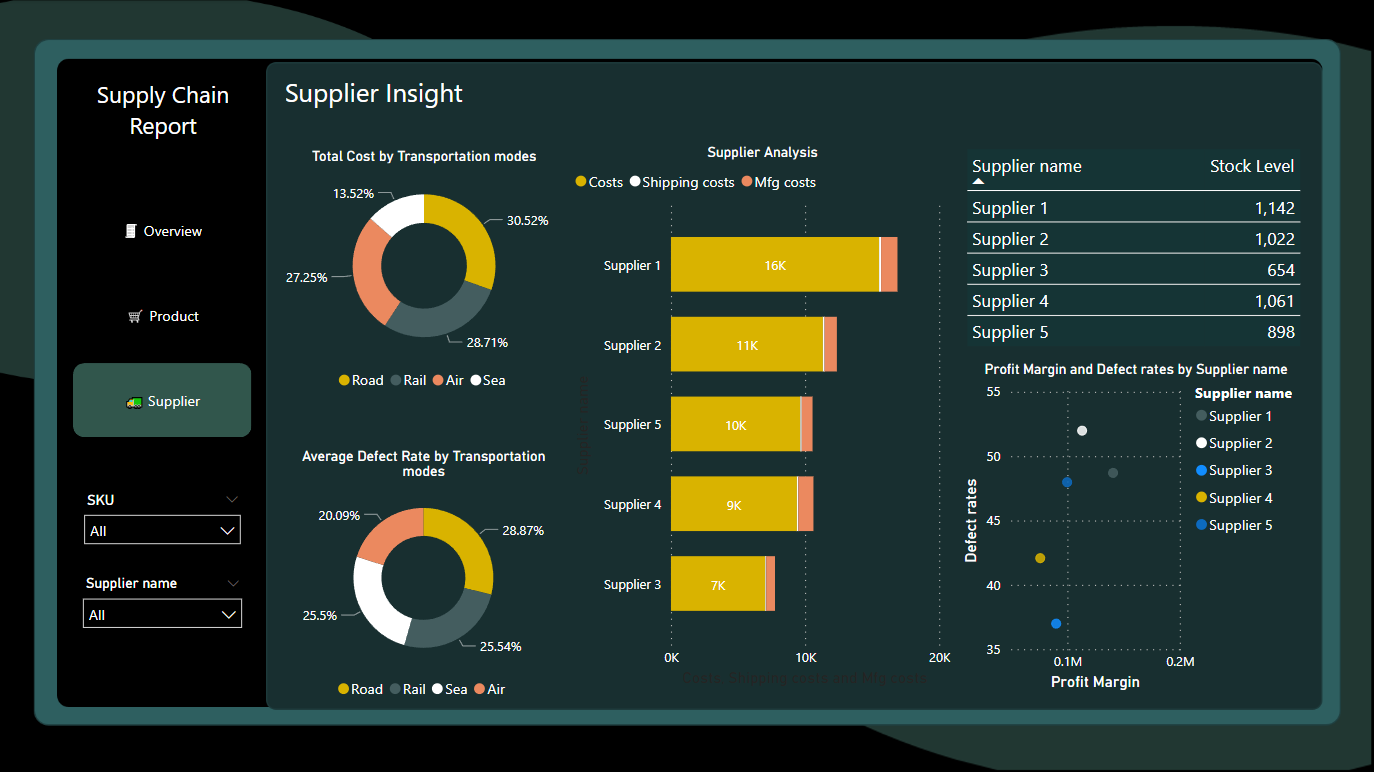

The dashboard page shown, as its layout file describes it:
{"tool":"powerbi","page":{"name":"🚛  Supplier","canvas":[1280,720],"ordinal":2},"visuals":[{"type":"donutChart","fields":{"Y":["_Measures.Total Cost"],"Category":["supply_chain_data.Transportation modes"]},"box":[261.6,138.3,269.7,234.8],"z":0},{"type":"donutChart","fields":{"Y":["_Measures.Average Defect Rate"],"Category":["supply_chain_data.Transportation modes"]},"box":[256.9,417.4,277.9,243],"z":1000},{"type":"barChart","title":"Supplier Analysis","fields":{"Category":["supply_chain_data.Supplier name"],"Y":["Sum(supply_chain_data.Costs)","Sum(supply_chain_data.Shipping costs)","Sum(supply_chain_data.Mfg costs)"]},"box":[531.3,134.9,359.2,509.2],"z":2000},{"type":"tableEx","fields":{"Values":["supply_chain_data.Supplier name","_Measures.Stock Level"]},"box":[895.2,134.9,324.4,194.2],"z":3000},{"type":"scatterChart","fields":{"Series":["supply_chain_data.Supplier name"],"X":["Sum(supply_chain_data.Profit Margin)"],"Y":["Sum(supply_chain_data.Defect rates)"]},"box":[891.7,337.1,333.7,311.6],"z":4000},{"type":"textbox","box":[261.6,65.1,188.3,53.5],"z":5000},{"type":"group","id":"g1","title":"Group 1","box":[69.1,68.6,168.6,536.4],"z":6000},{"type":"pageNavigator","box":[69.7,179.9,166.2,229],"z":12000,"group":"g1"},{"type":"slicer","fields":{"Values":["supply_chain_data.SKU"]},"box":[70.5,453.1,166.2,70.9],"z":13000,"group":"g1"},{"type":"slicer","fields":{"Values":["supply_chain_data.Supplier name"]},"box":[69.1,531.8,168.6,73.2],"z":14000,"group":"g1"},{"type":"textbox","box":[71,68.6,165.1,90.7],"z":15000,"group":"g1"}]}

Visuals, with their boxes in screenshot pixels (x1, y1, x2, y2), scaled from the page's 1280x720 canvas onto the 1374x772 screenshot:
donutChart - _Measures.Total Cost x supply_chain_data.Transportation modes: select_region(281, 148, 570, 400)
donutChart - _Measures.Average Defect Rate x supply_chain_data.Transportation modes: select_region(276, 448, 574, 708)
"Supplier Analysis" barChart: select_region(570, 145, 956, 691)
tableEx - supply_chain_data.Supplier name x _Measures.Stock Level: select_region(961, 145, 1309, 353)
scatterChart - supply_chain_data.Supplier name x Sum(supply_chain_data.Profit Margin): select_region(957, 361, 1315, 696)
textbox: select_region(281, 70, 483, 127)
"Group 1" group: select_region(74, 74, 255, 649)
pageNavigator: select_region(75, 193, 253, 438)
slicer - supply_chain_data.SKU: select_region(76, 486, 254, 562)
slicer - supply_chain_data.Supplier name: select_region(74, 570, 255, 649)
textbox: select_region(76, 74, 253, 171)
